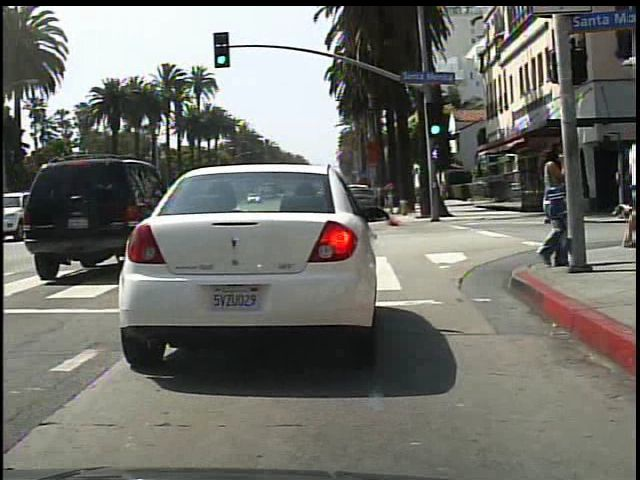person: (527, 140, 566, 272)
